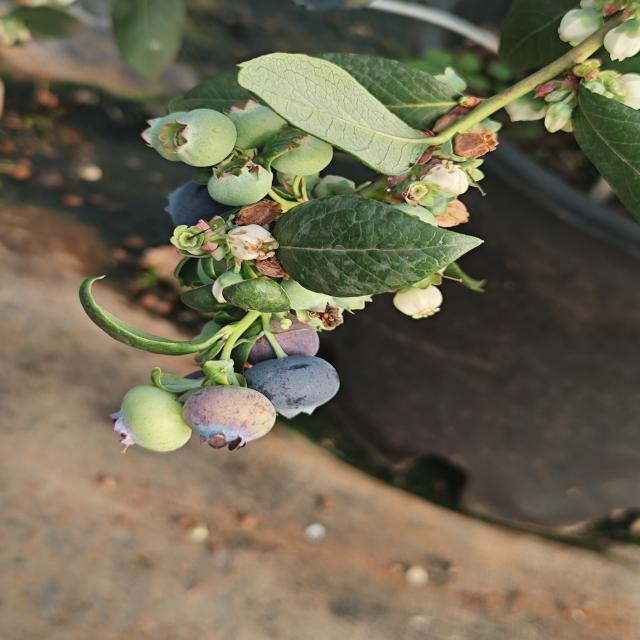ripe: (160, 172, 269, 237), (236, 347, 340, 412)
